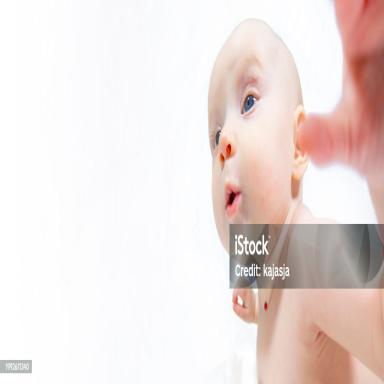Hemangiome: (264, 302, 267, 310)
